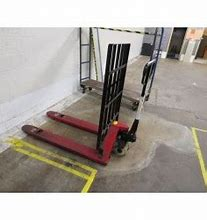Pallet Jack: (20, 42, 158, 166)
